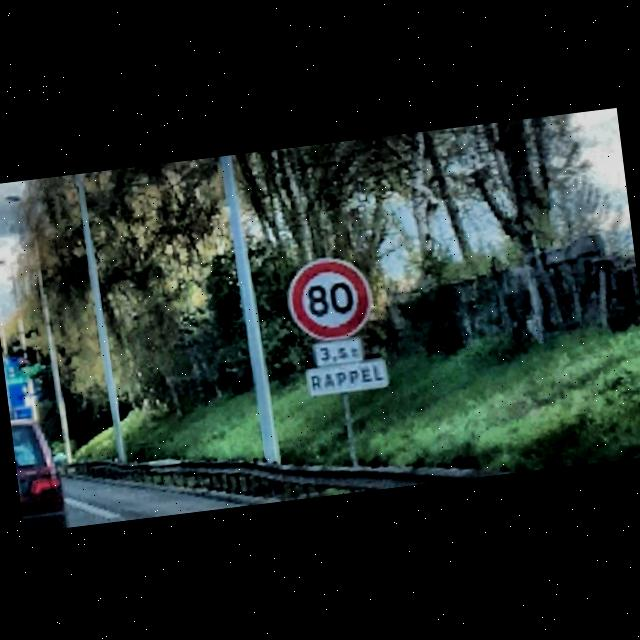speed_80: (284, 252, 377, 345)
